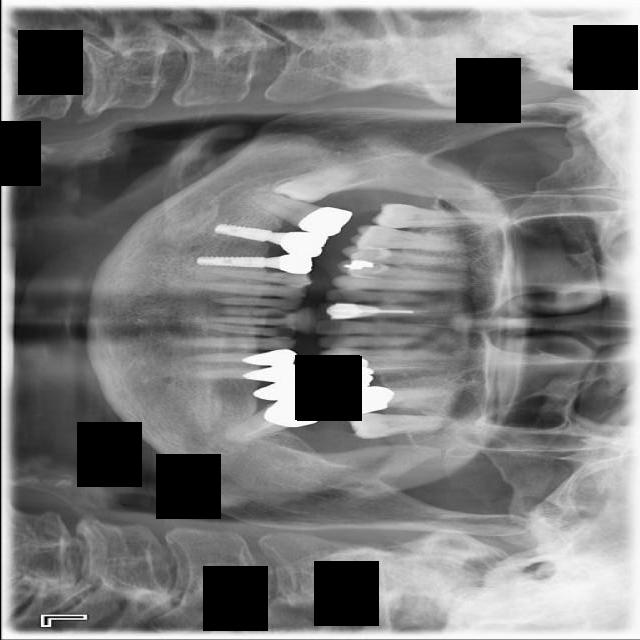52: (236, 341, 322, 442), (320, 348, 397, 420), (293, 202, 353, 240), (277, 227, 329, 260), (334, 257, 388, 281), (316, 302, 377, 320), (278, 253, 312, 275)
73: (217, 399, 293, 448), (365, 357, 449, 375), (371, 304, 430, 317), (58, 598, 70, 603)
BioHorizons Implant: (345, 411, 454, 442)
Blue Sky Bio Implant: (217, 390, 322, 448)
Caries: (371, 203, 503, 232)
Implant: (246, 189, 353, 242)
Keystone Dental Implant: (271, 149, 366, 219)
